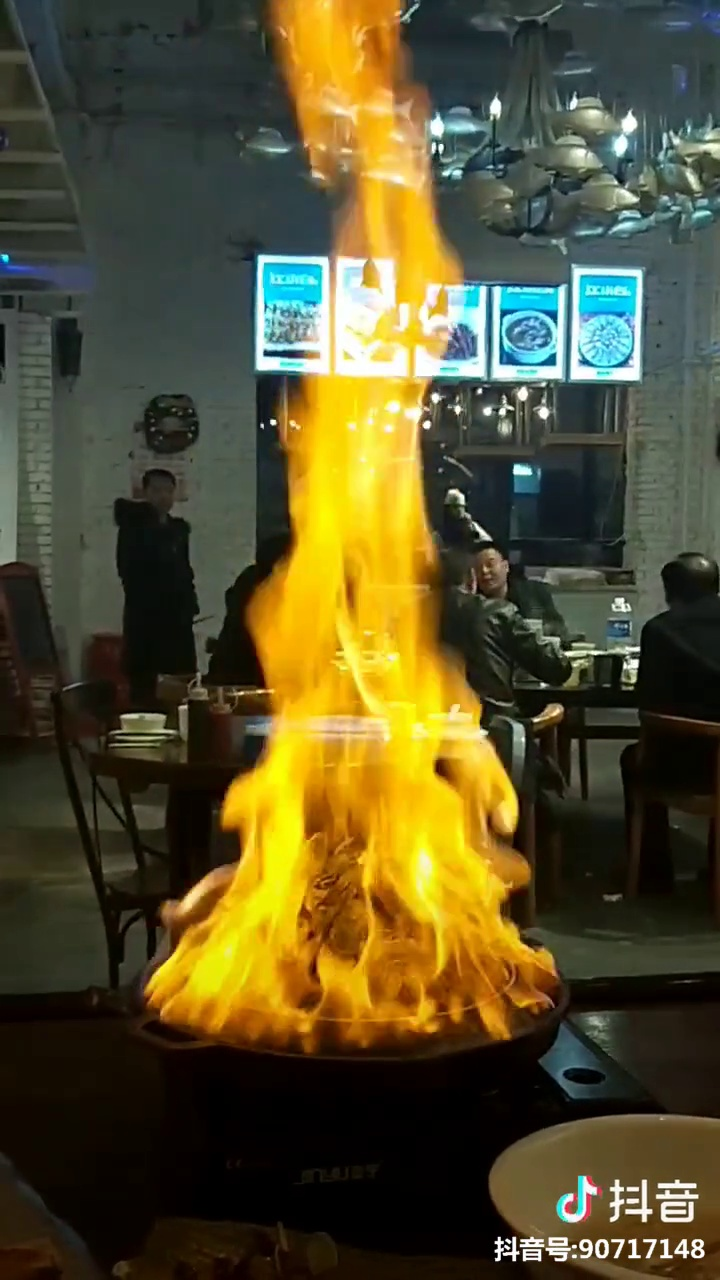fire: (206, 371, 521, 1039)
